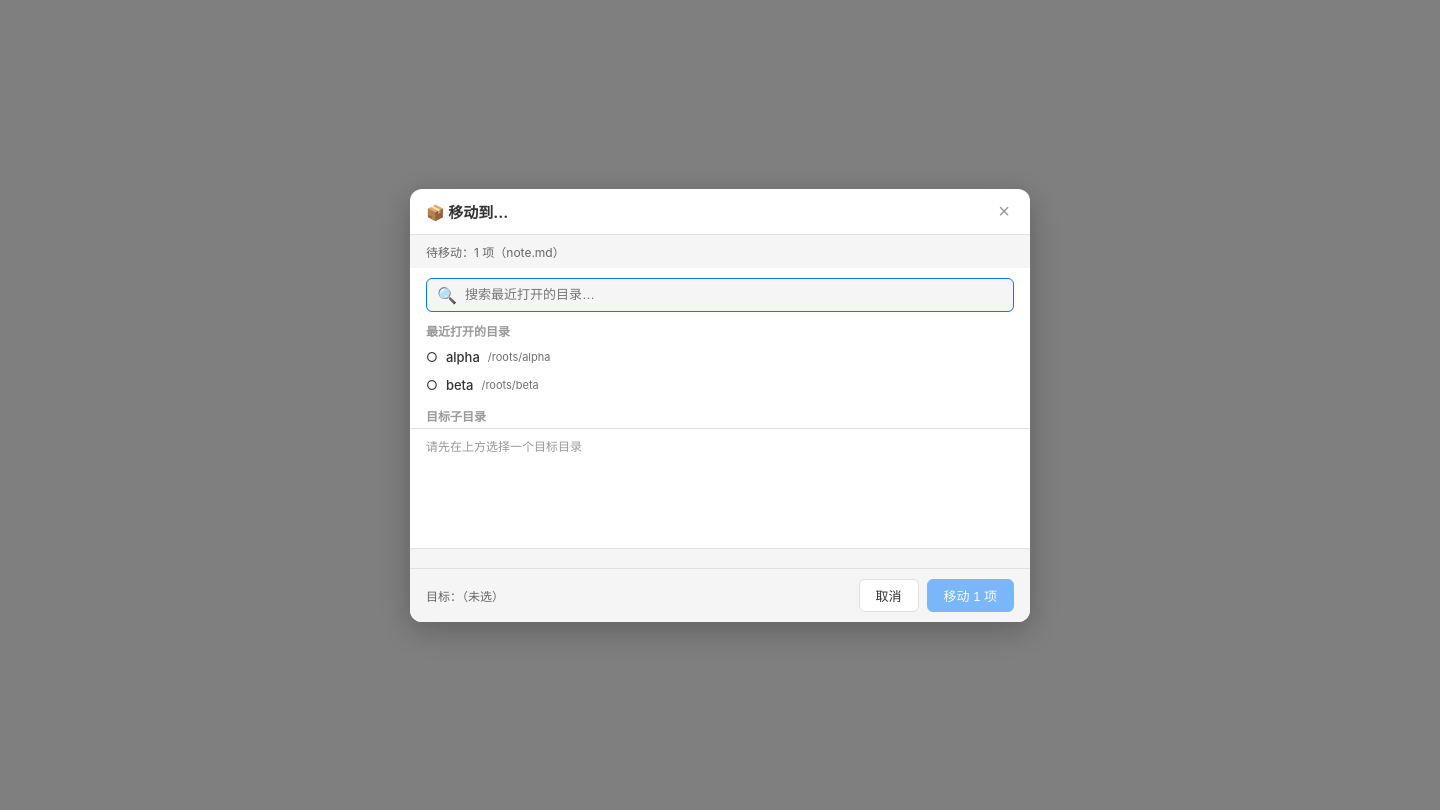
Test: MoveToDialog › 清空过滤后恢复全部最近打开目录
Expected: the text "alpha" is shown, [446, 348, 480, 364]
Type "beta" into the field named "搜索移动目标目录" at (734, 294), box [465, 287, 1003, 302]
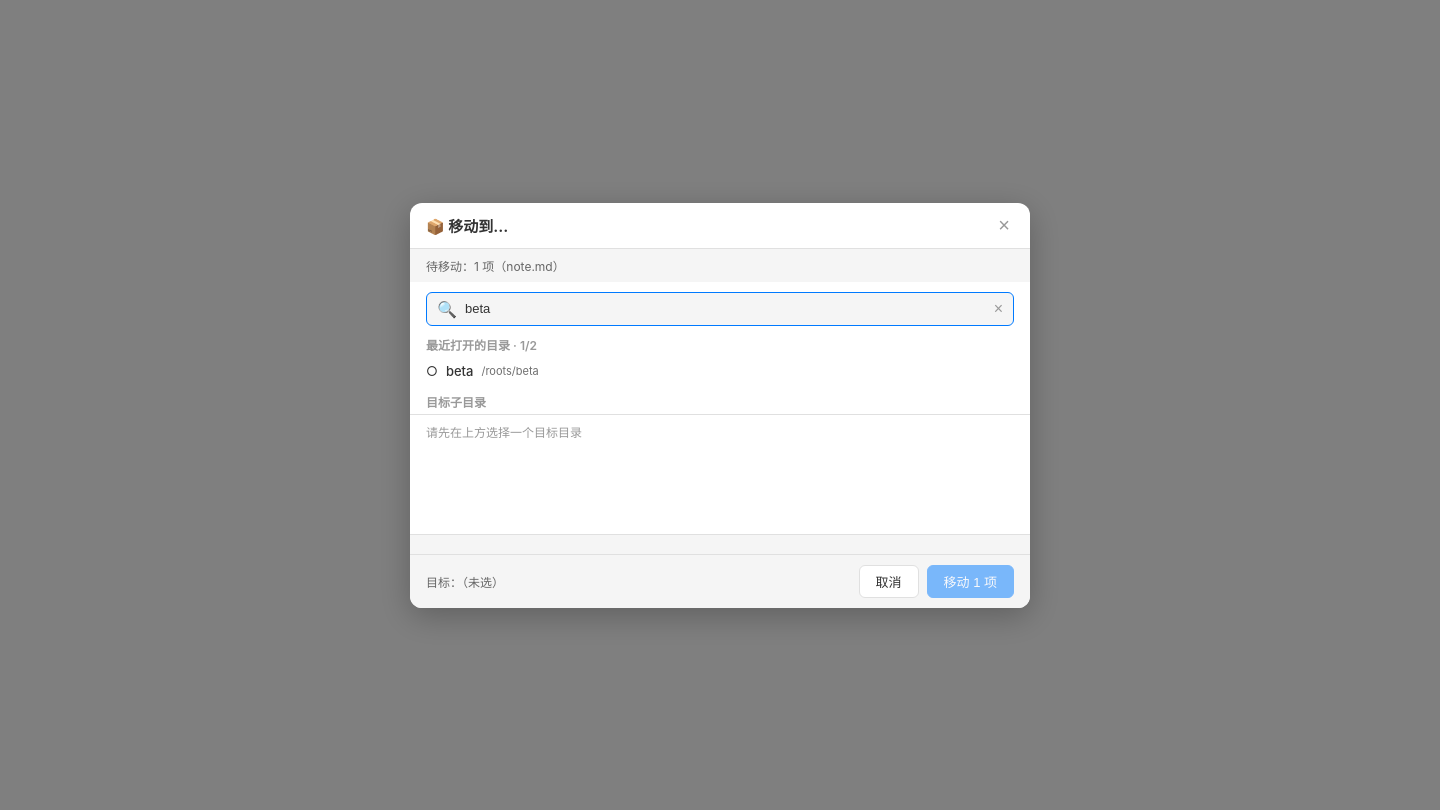
Now the text "alpha" is gone
Click the button named "清空目录搜索" at (998, 308), box [994, 300, 1003, 318]
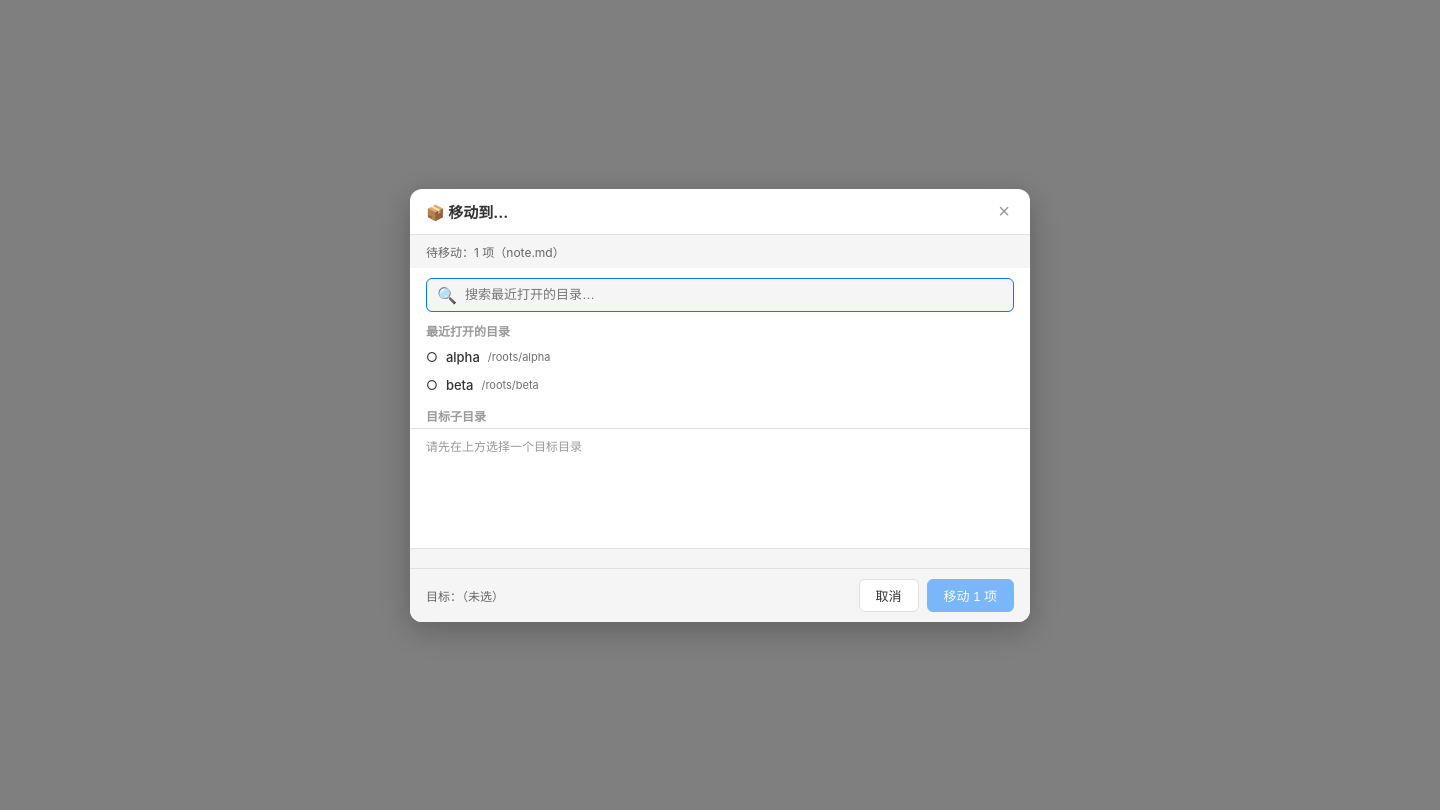
Expected: the text "beta" is shown, [446, 376, 473, 392]
Now the text "alpha" is shown, box [446, 348, 480, 364]
